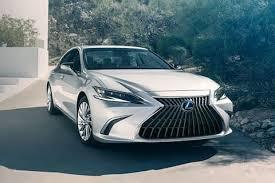car: (42, 40, 243, 156)
